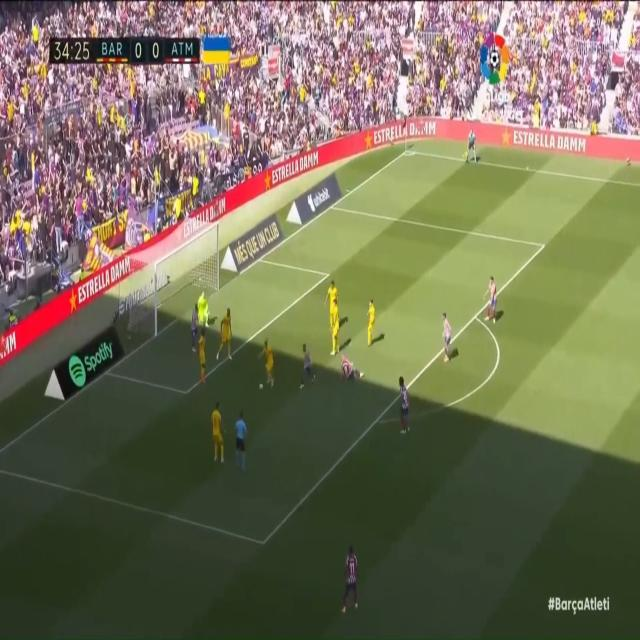ball: (258, 379, 266, 393)
goalkeeper: (195, 278, 214, 331)
player: (334, 530, 359, 619), (206, 390, 224, 465), (396, 368, 413, 446), (321, 277, 343, 335), (363, 289, 385, 344), (258, 331, 277, 391), (329, 294, 346, 354), (437, 304, 453, 366), (331, 349, 362, 381), (288, 340, 304, 400), (481, 265, 495, 330), (219, 302, 234, 361), (188, 300, 201, 360), (195, 328, 206, 386)
referee: (230, 409, 251, 467), (460, 124, 477, 168)
